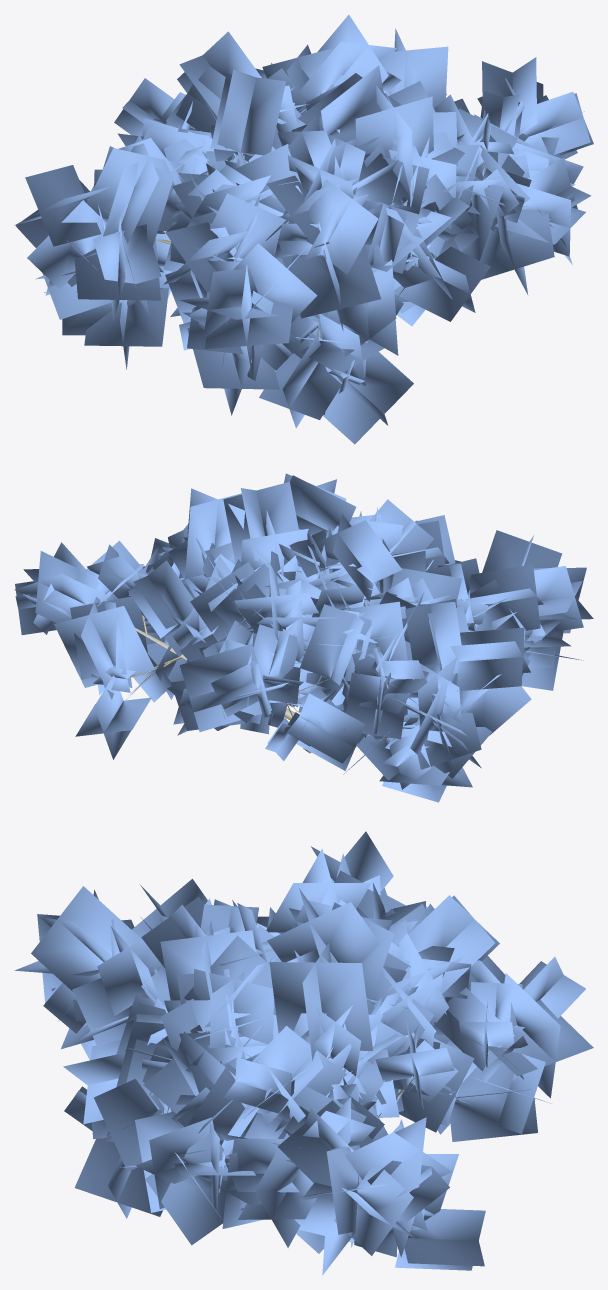
File: bush_3_v0_lod1.glb
3 views of the same model, one above another, from view 1: azimuth 30°, elevation 25°; view 2: azimuth 150°, elevation 25°; view 3: azimuth 270°, elevation 25° (orthographic). The views are drawn at different scales.
Parts seen in each view (by area): view 1: Leaves; view 2: Leaves, Branches; view 3: Leaves.
Boxes of the visible parts, x1=… form: Leaves: x1=14, y1=14, x2=593, y2=444; Leaves: x1=14, y1=473, x2=593, y2=802; Branches: x1=87, y1=576, x2=526, y2=753; Leaves: x1=14, y1=831, x2=593, y2=1275.
Size of the model in its own units: 41.11 by 22.85 by 32.56.
